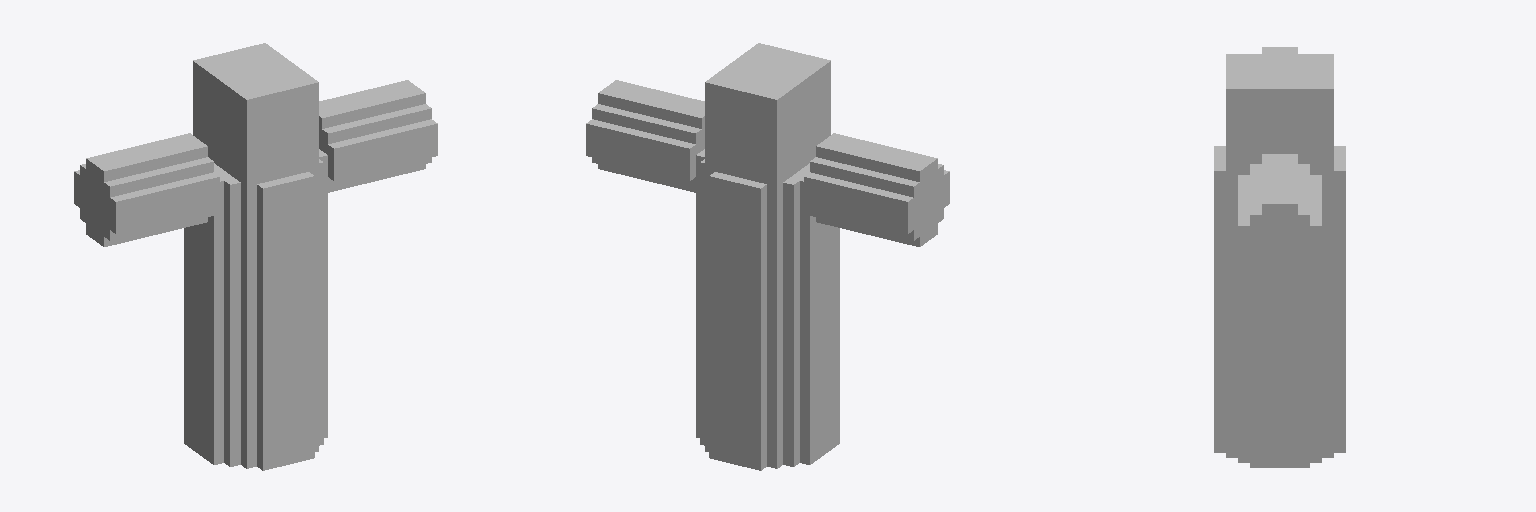
The model's file is Target Dummy.obj.
3 renders of one model, left to right at view 1: azimuth 30°, elevation 25°; view 2: azimuth 150°, elevation 25°; view 3: azimuth 270°, elevation 25°, orthographic.
Parts seen in each view (by area): view 1: object 1; view 2: object 1; view 3: object 1.
Part boxes in pixels (bbox=[...]): object 1: bbox=[74, 43, 437, 470]; object 1: bbox=[586, 43, 949, 470]; object 1: bbox=[1214, 47, 1345, 467].
Bounding box in the file's own units: 3.1 × 3.4 × 1.1.